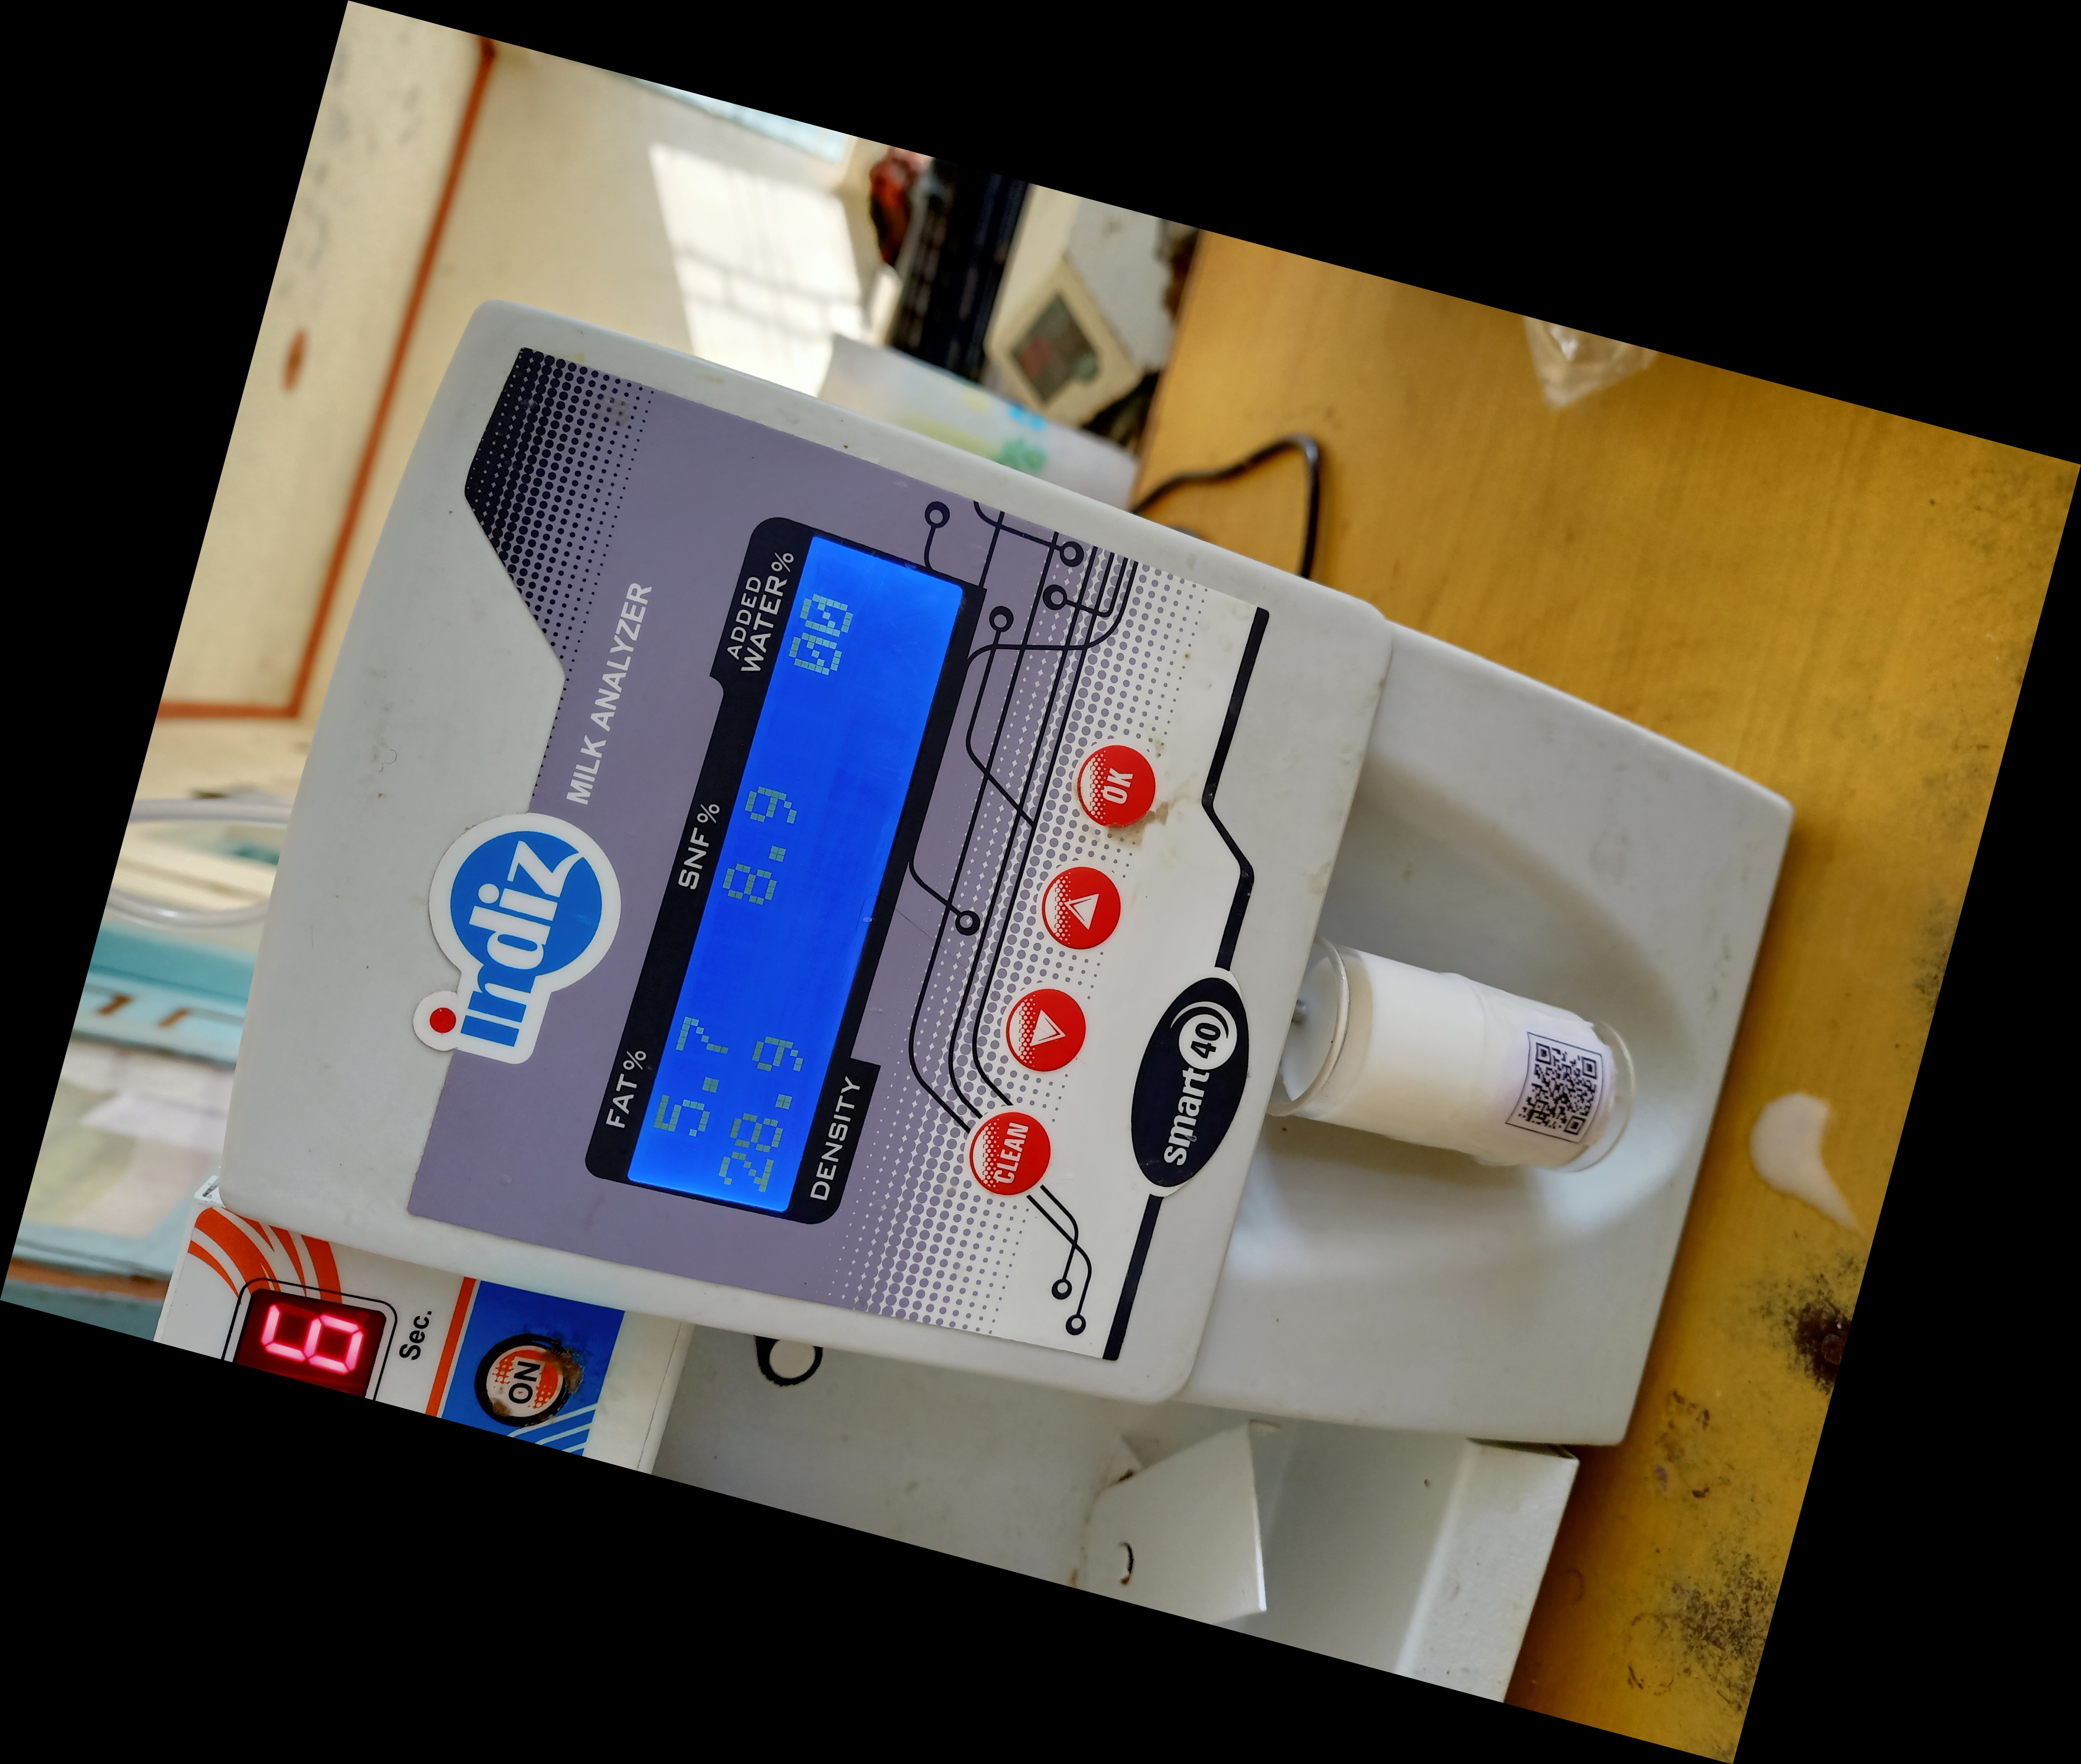lcd: (597, 504, 1012, 1269)
qr: (1507, 1025, 1605, 1157)
